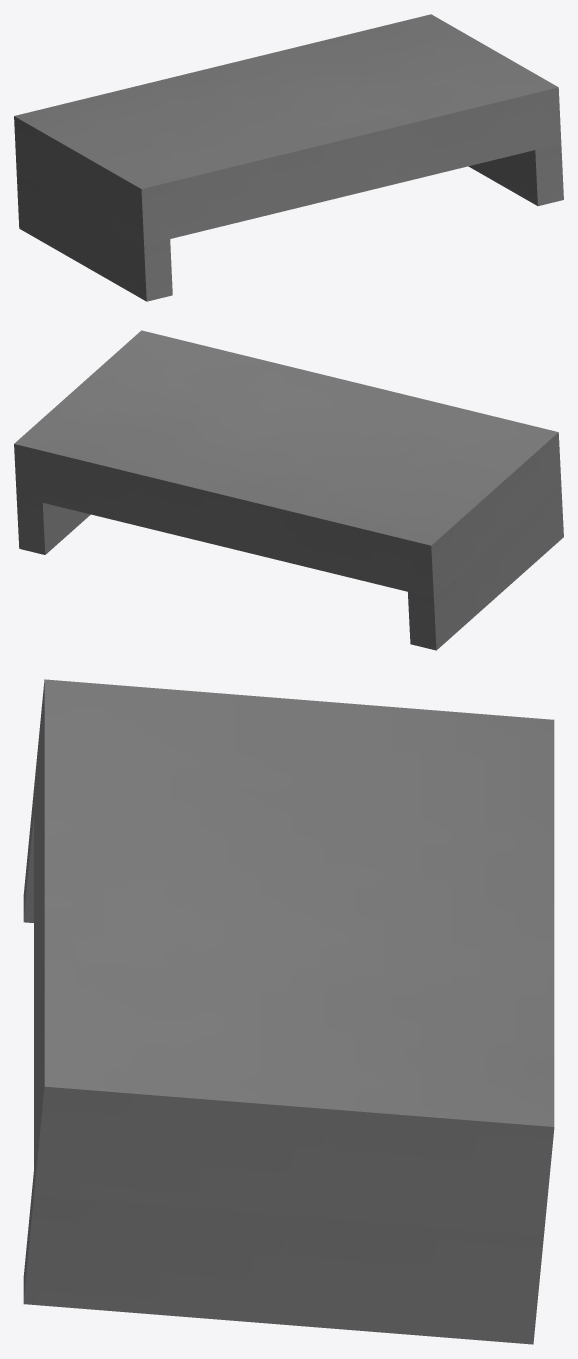
The model's file is dc_metro_arch_c11.obj.
3 renders of one model, top to bottom at view 1: azimuth 30°, elevation 25°; view 2: azimuth 150°, elevation 25°; view 3: azimuth 270°, elevation 25°, orthographic. The views are drawn at different scales.
Parts seen in each view (by area): view 1: part11; view 2: part11; view 3: part11.
Boxes of the visible parts, box(x1,y1,x2,y2) form: part11: box(14, 14, 563, 301); part11: box(14, 330, 563, 650); part11: box(23, 679, 554, 1344).
Size of the model in its own units: 2 by 0.5907 by 1.1.
2 materials, 2 textured.
